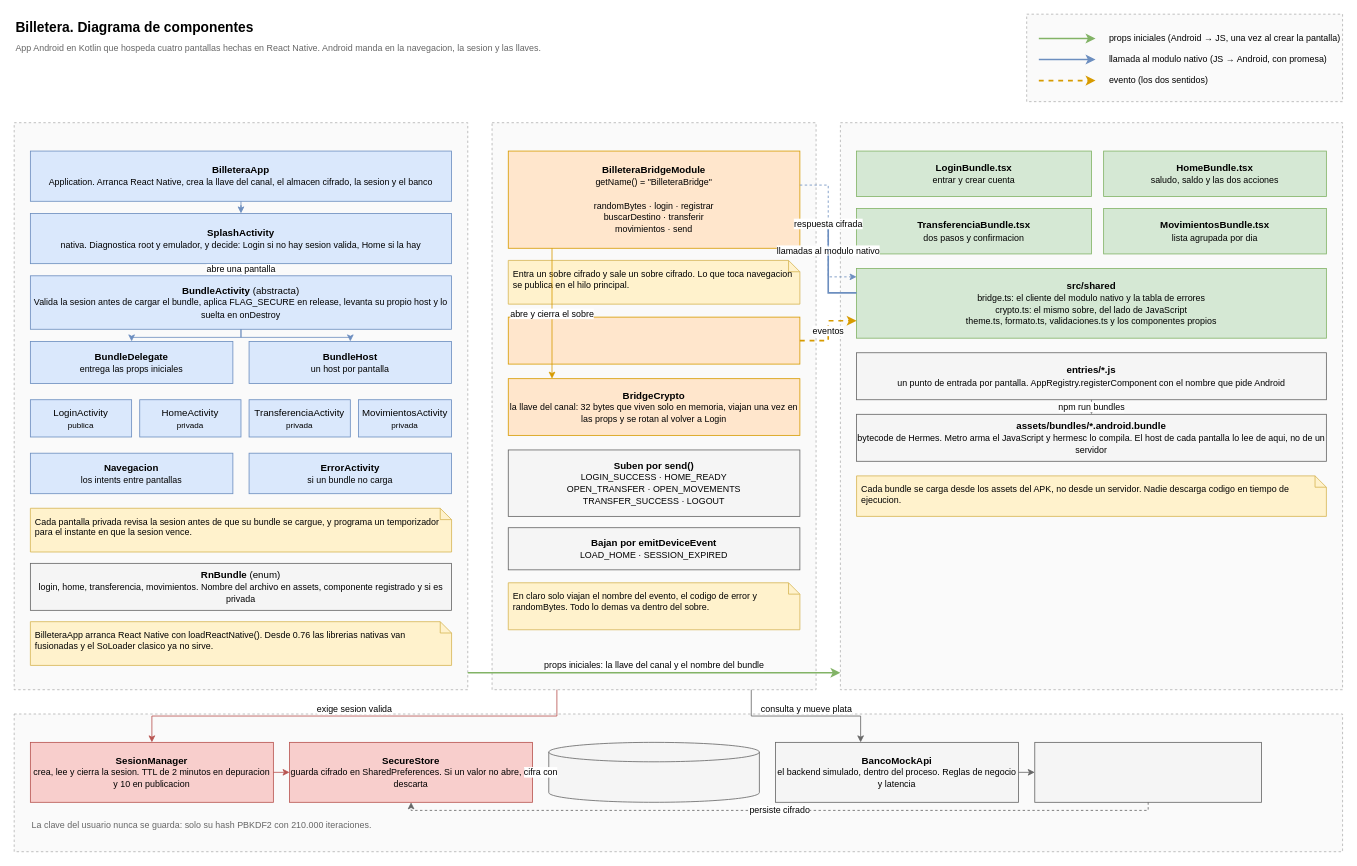
The diagram is 1357 pixels wide and 866 high, and some of its shapes have lost their labels. Here are the shapes that lost their labels. From the top down, the box of each, then its label:
(1026, 13, 1343, 102): Leyenda
(507, 316, 800, 364): JsEmitter el camino de vuelta: emitDeviceEvent sobre el contexto vivo del host
(13, 122, 468, 690): Contenedor Android · Kotlin
(491, 122, 816, 690): El puente
(840, 122, 1343, 690): Bundles de React Native · Hermes
(548, 742, 759, 802): LlaveKeystore Android Keystore AES-256-GCM
(13, 713, 1343, 852): Datos y seguridad · Kotlin
(1034, 742, 1262, 802): MockDb usuarios y movimientos en JSON, guardados cifrados
